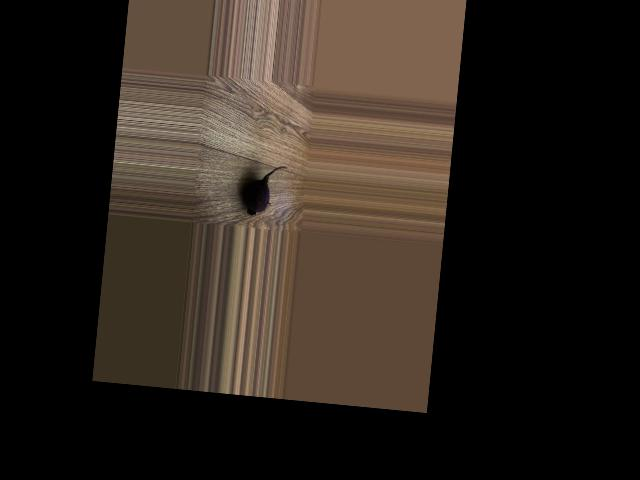beet: (243, 161, 287, 217)
